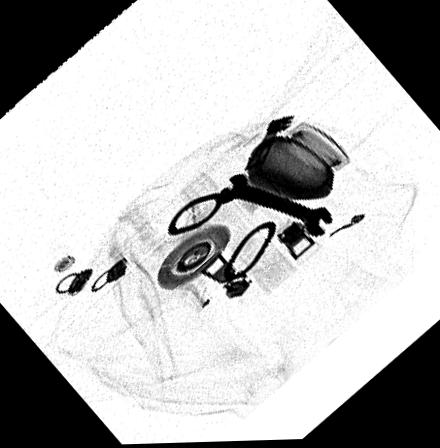Wrench: (211, 174, 333, 240)
